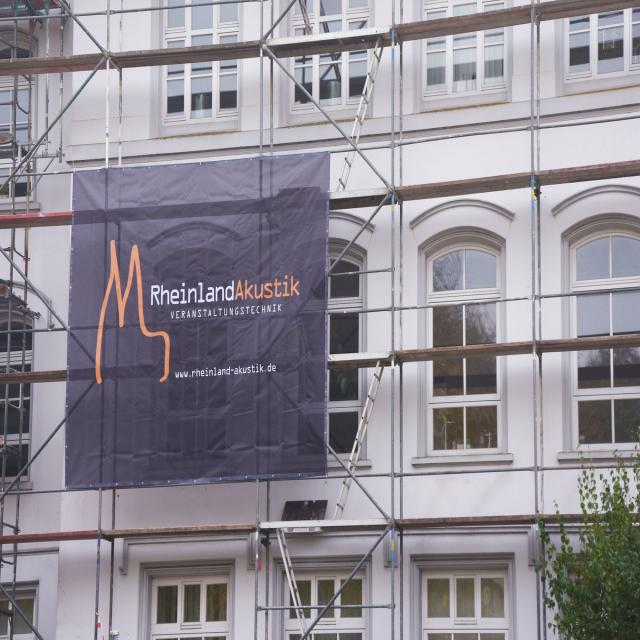Werbetafel frei: (60, 144, 332, 499)
